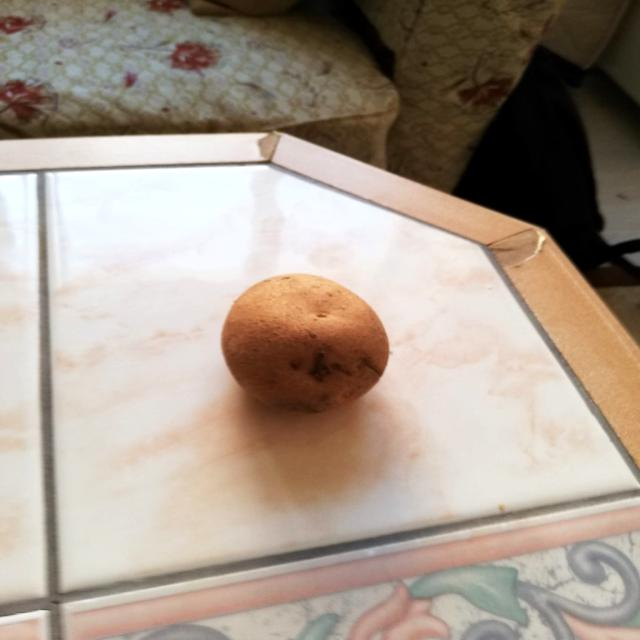potato: (212, 266, 394, 418)
